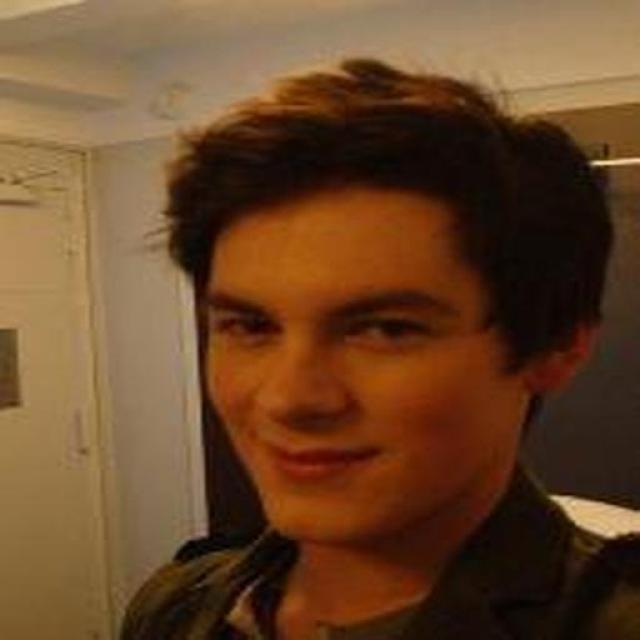bareface: (198, 243, 519, 546)
